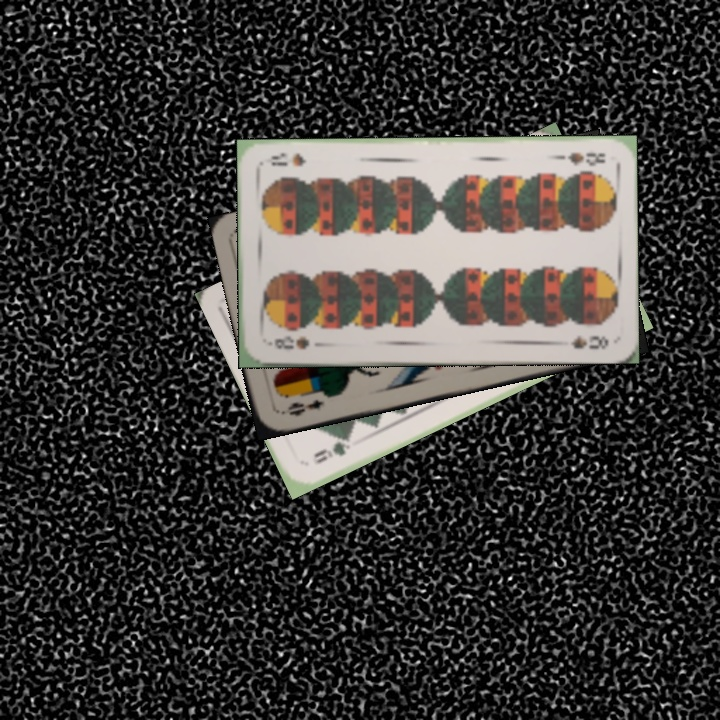EO: (283, 395, 326, 419)
G9: (309, 432, 355, 467)
S8: (552, 148, 609, 169), (264, 331, 312, 352)
